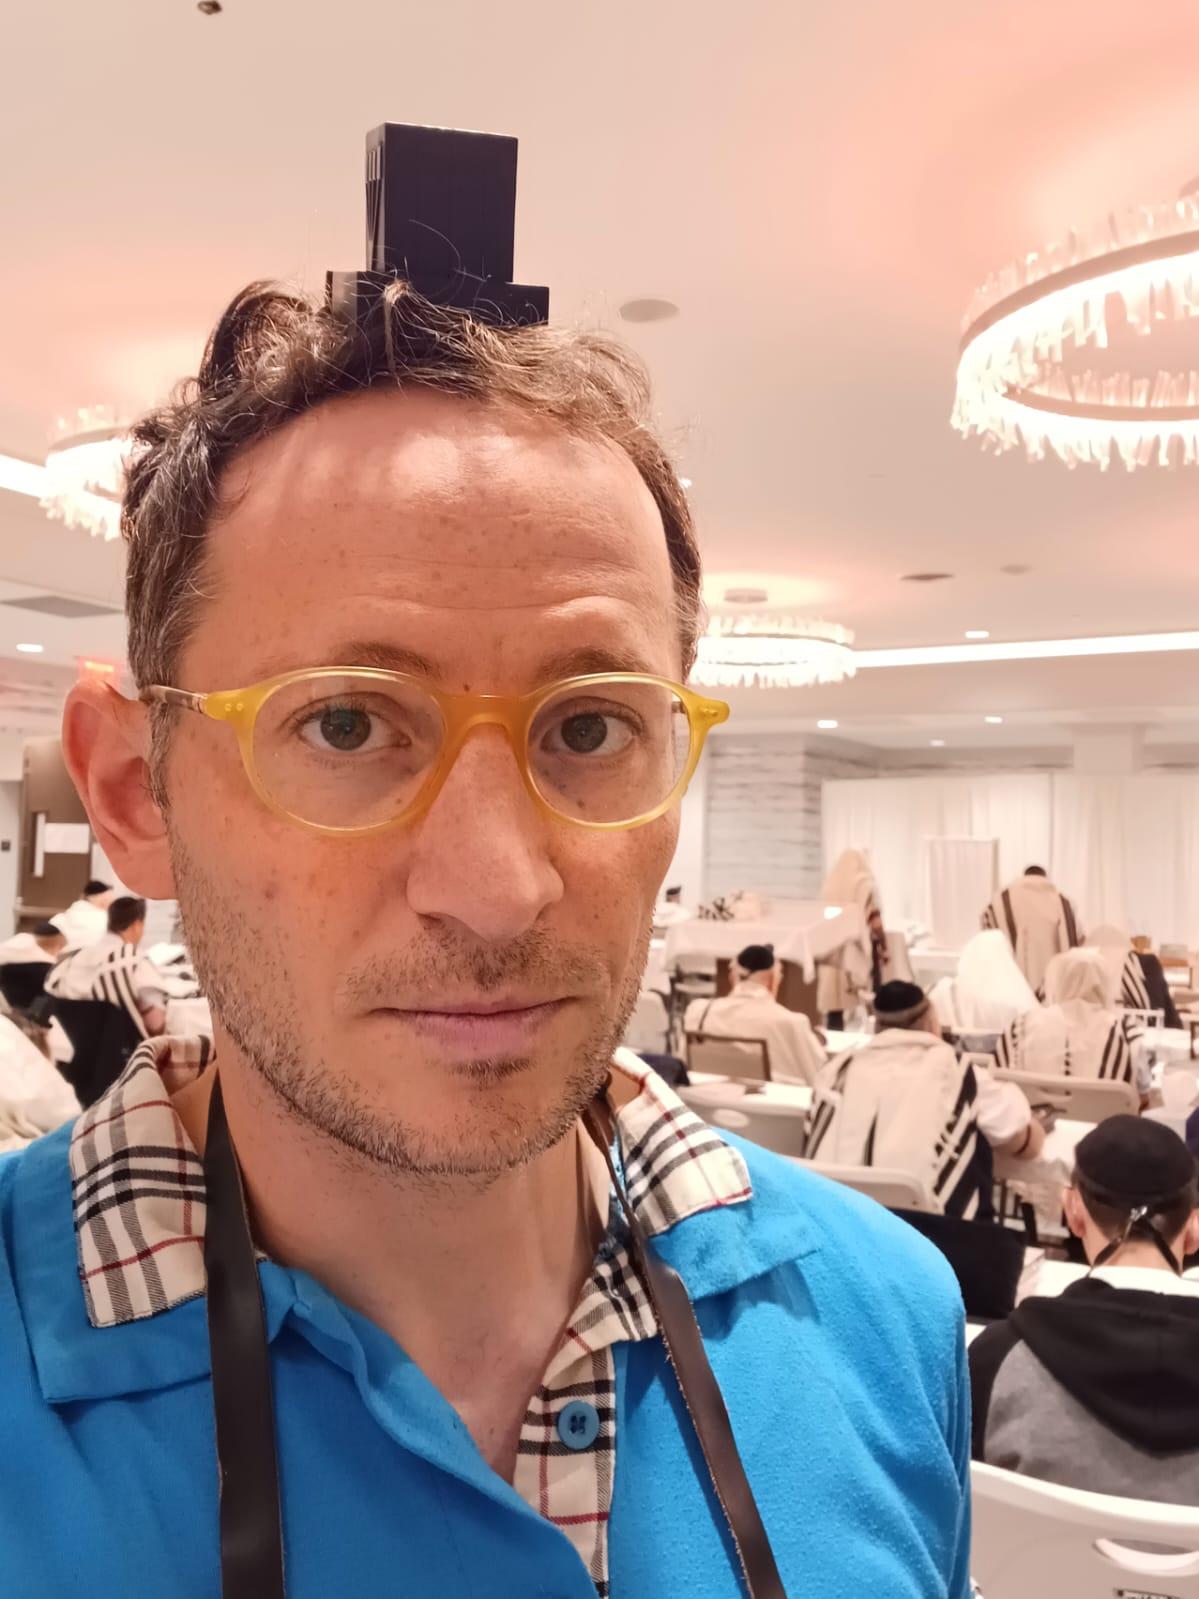tefillin: (330, 125, 552, 324)
